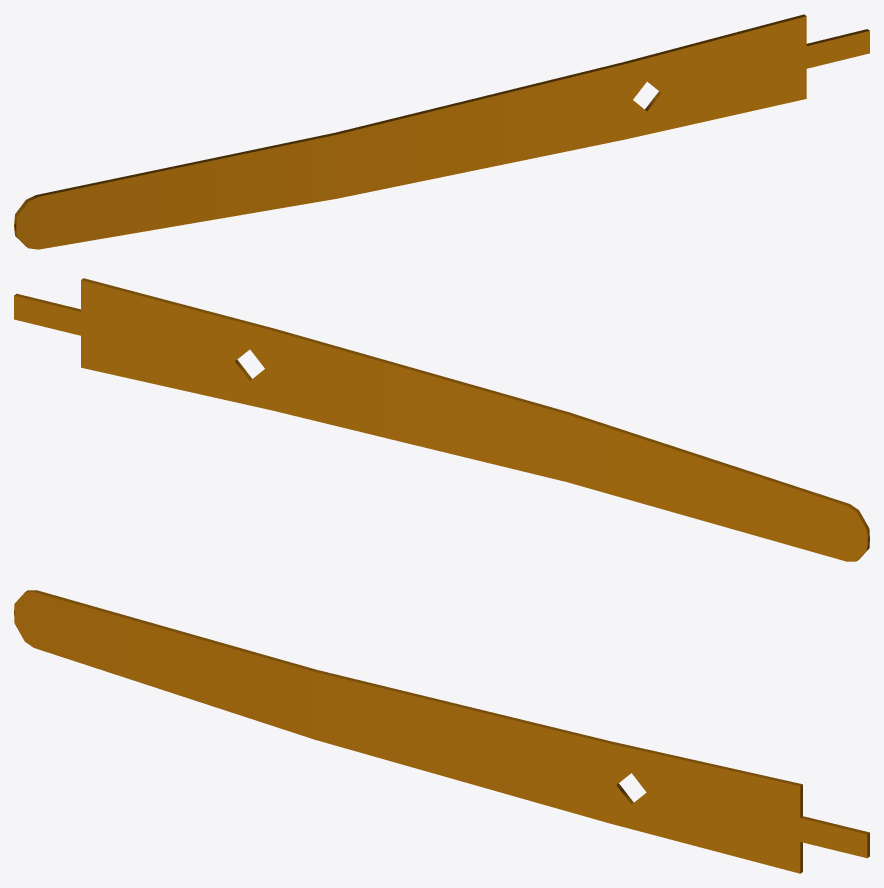
Rendered from Copie de Je sais pas ce que c_est !^Copie de Assemb_Guide_cremaillere_Copie de ASS pilier 4_Horloge Comtoise Verge - Sonnerie.obj.
3 renders of one model, top to bottom at view 1: azimuth 30°, elevation 25°; view 2: azimuth 150°, elevation 25°; view 3: azimuth 330°, elevation 25°, orthographic. The views are drawn at different scales.
Visible parts, largest first — view 1: Face_1, Face_7, Face_6; view 2: Face_11, Face_10, Face_6; view 3: Face_1, Face_7, Face_6.
Boxes of the visible parts, x1,y1,x2,y2 form: Face_1: (17,64,625,249); Face_7: (625,16,869,139); Face_6: (36,14,806,196); Face_11: (272,331,866,561); Face_10: (14,280,272,410); Face_6: (81,278,849,505); Face_1: (14,592,608,822); Face_7: (608,743,867,873); Face_6: (34,590,802,785).
Size of the model in its own units: 0.0578 by 0.0055 by 0.00317.
